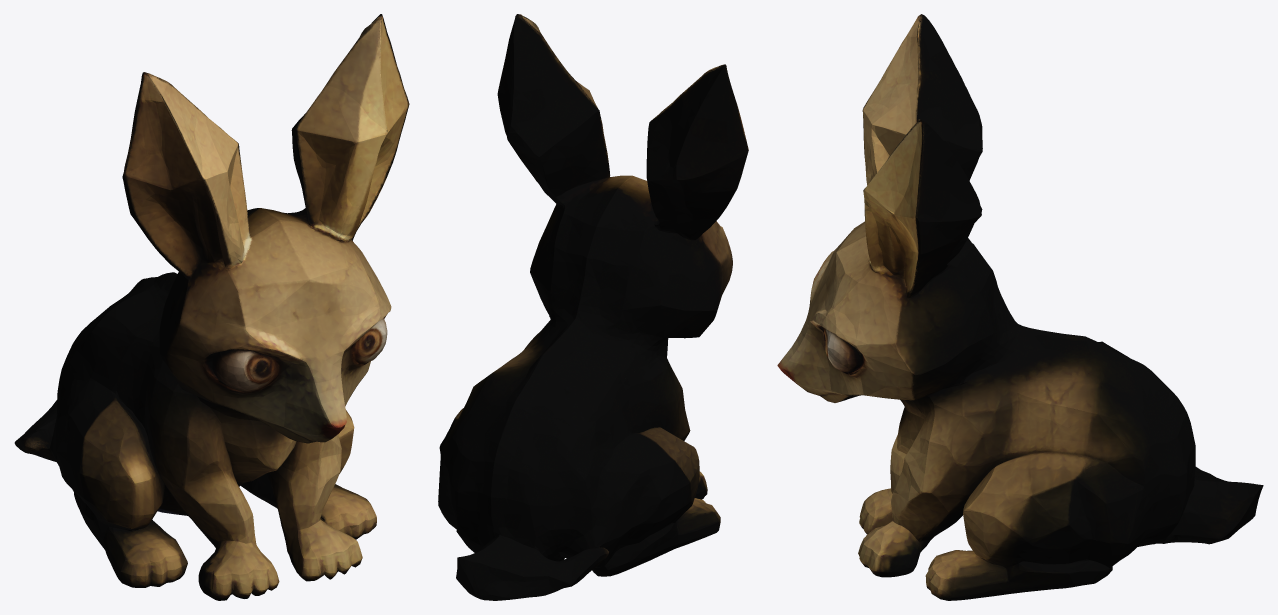
Rendered from kitrabbit.glb.
The picture shows the model from 3 angles, left to right: view 1: azimuth 30°, elevation 25°; view 2: azimuth 150°, elevation 25°; view 3: azimuth 270°, elevation 25°; orthographic projection. The views are drawn at different scales.
Visible parts, largest first — view 1: world; view 2: world; view 3: world.
Part boxes in pixels (box(x1,y1,x2,y2)): world: box(14, 14, 409, 600); world: box(438, 14, 748, 600); world: box(777, 14, 1263, 600).
Bounding box in the file's own units: 0.5695 × 1 × 0.916.
Materials: 1 (1 with a texture image).
